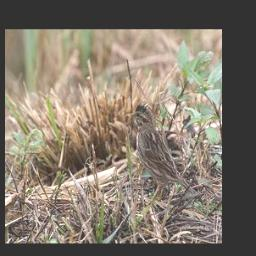Sparrow: (128, 100, 199, 209)
